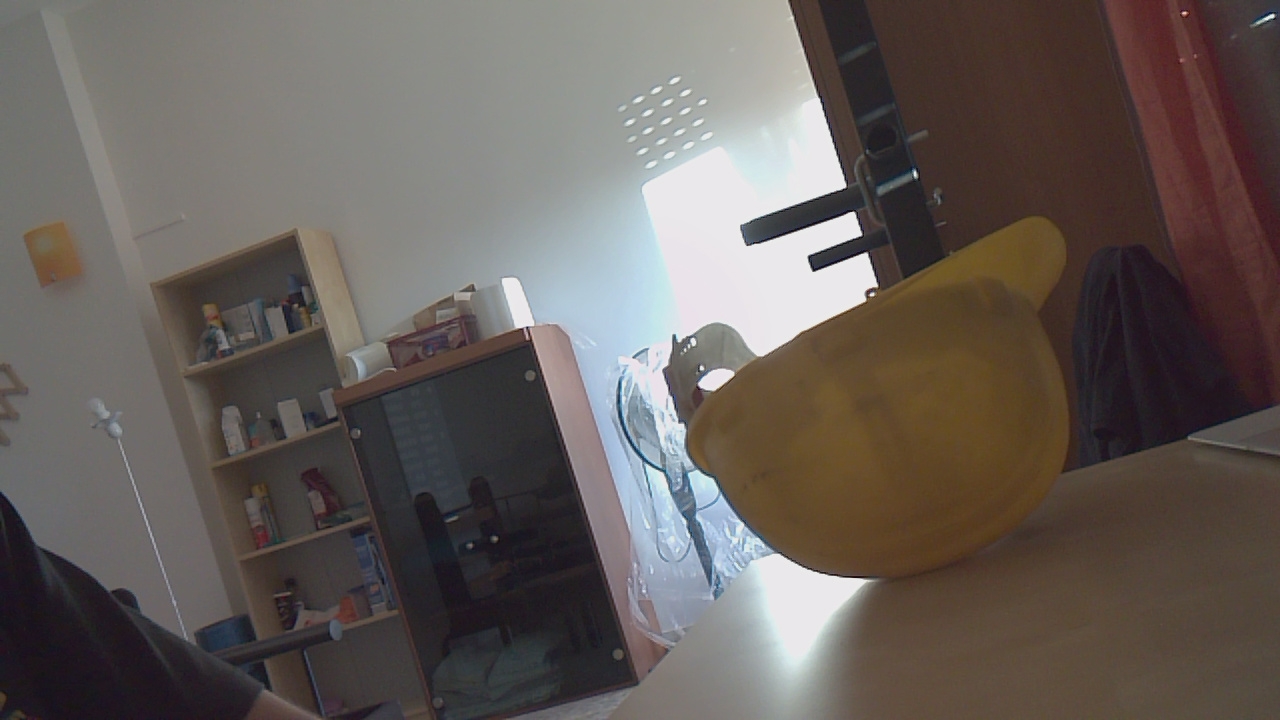Helmet: (658, 212, 1083, 587)
